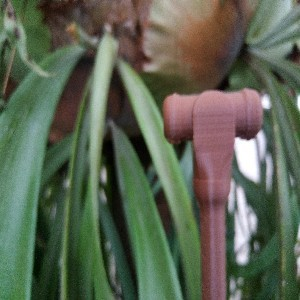palu: (161, 87, 262, 300)
